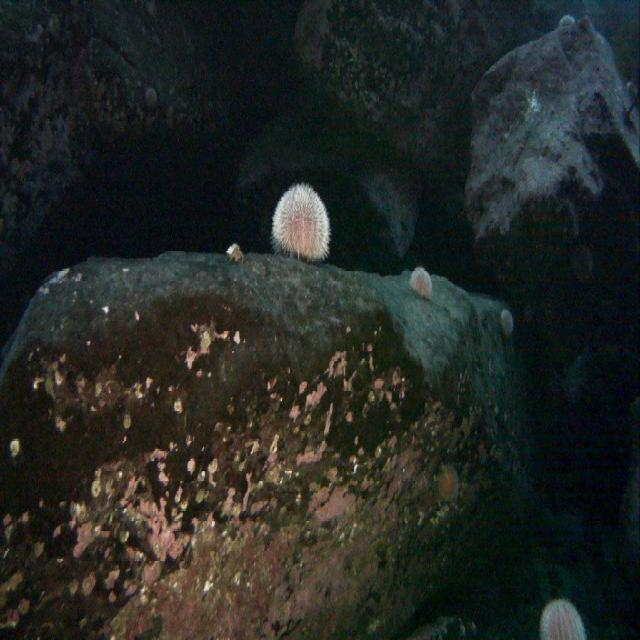Deniz Kestanesi: (270, 181, 332, 262), (539, 596, 587, 640), (410, 266, 431, 302), (439, 468, 459, 502), (501, 309, 513, 338), (146, 87, 156, 109), (559, 14, 574, 28)
